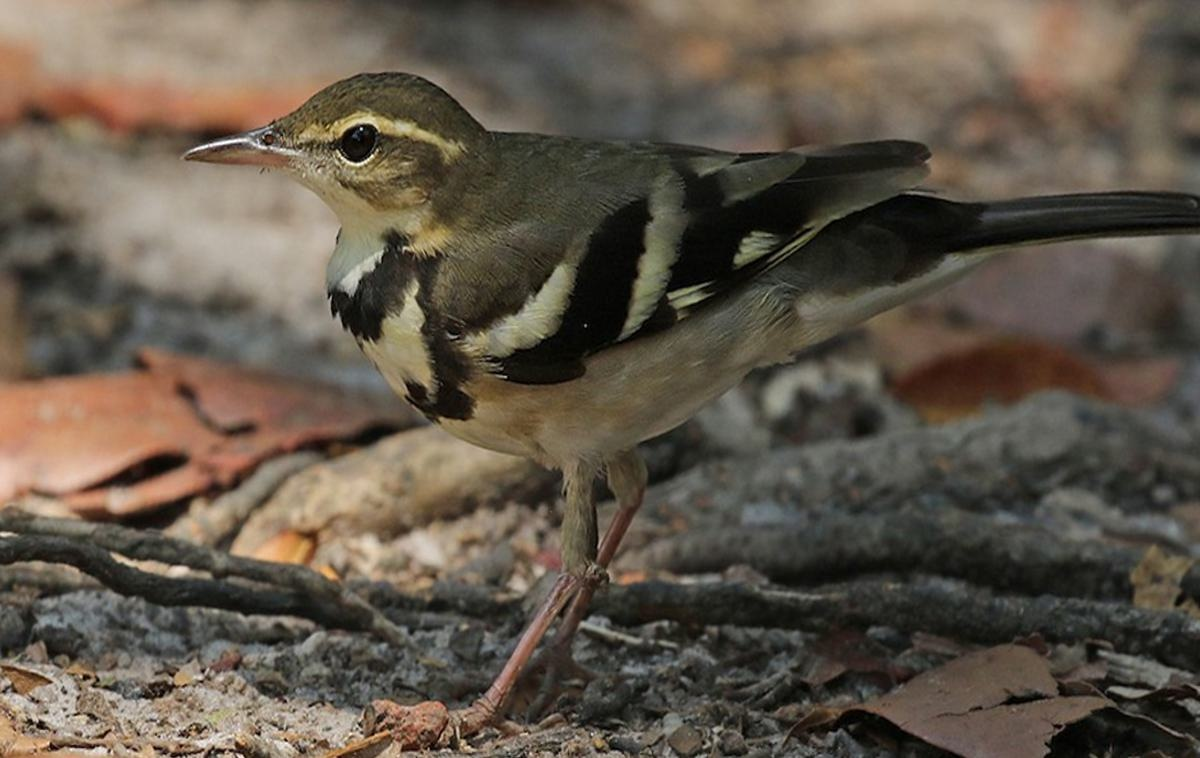wagtail: (204, 62, 1053, 582)
